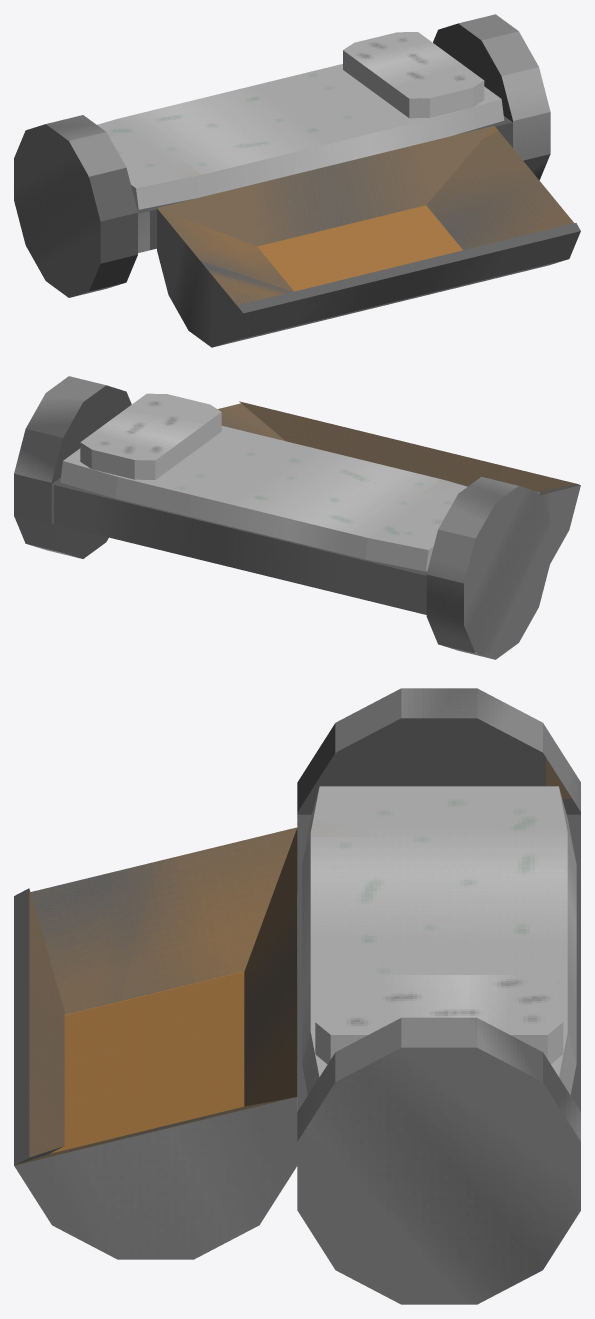
File: encasedbed.gltf
The picture shows the model from 3 angles, top to bottom: view 1: azimuth 30°, elevation 25°; view 2: azimuth 150°, elevation 25°; view 3: azimuth 270°, elevation 25°; orthographic projection. The views are drawn at different scales.
Visible parts, largest first — view 1: cylinder (×3), cuboid (×3); view 2: cuboid (×3), cylinder (×3); view 3: cylinder (×3), cuboid (×3).
Boxes of the visible parts, <box> form: cylinder (×3): <box>14,14,580,347</box>; cuboid (×3): <box>97,32,512,252</box>; cuboid (×3): <box>51,393,467,614</box>; cylinder (×3): <box>14,376,580,659</box>; cylinder (×3): <box>14,688,580,1304</box>; cuboid (×3): <box>297,786,580,1111</box>.
Size of the model in its own units: 3 by 1 by 2.
1 material, 1 textured.
